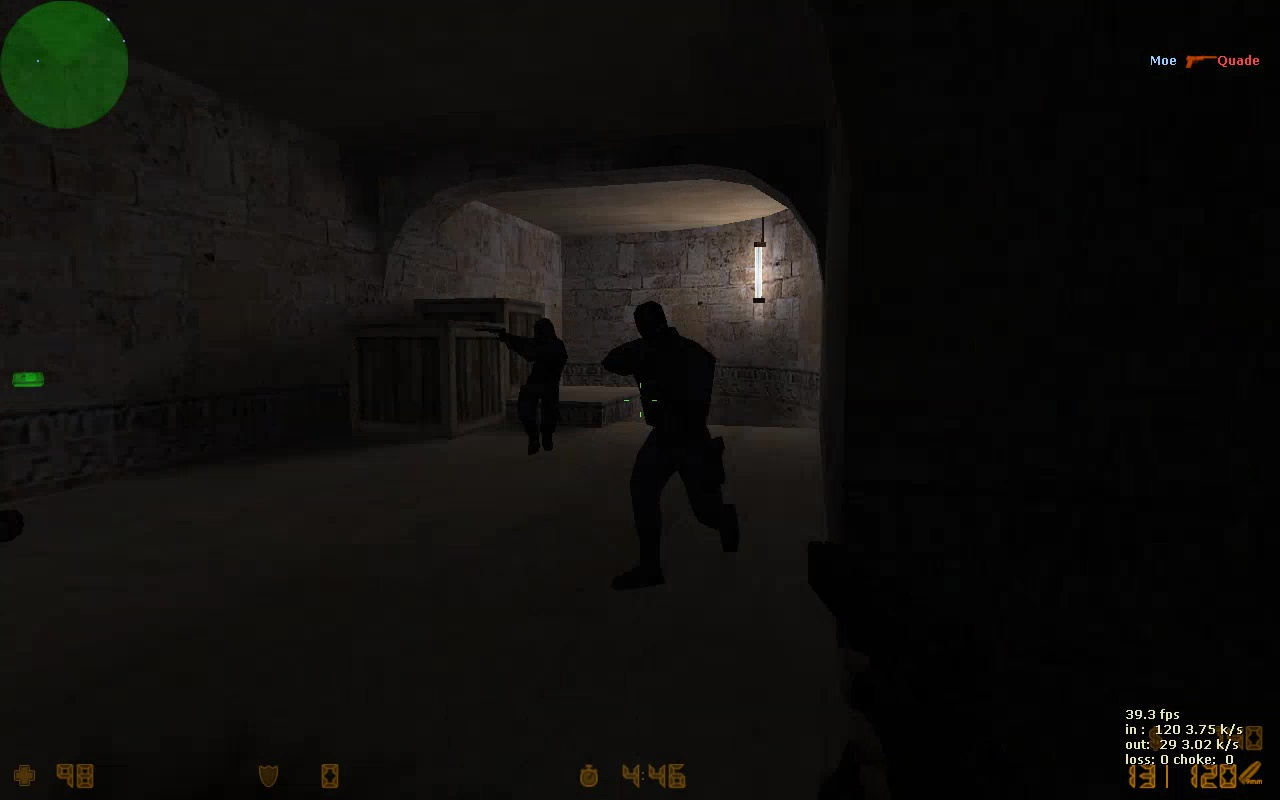ct: (600, 297, 740, 586), (494, 317, 571, 458)
